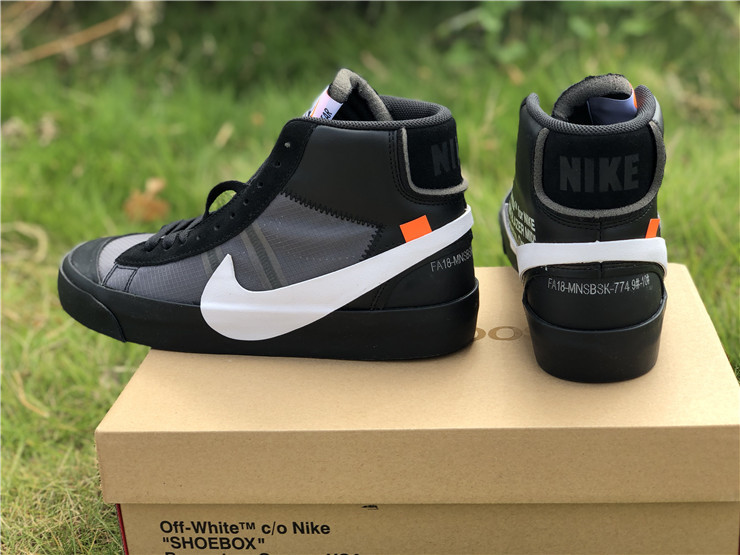Nike Blazer Grim Reaper: (48, 58, 489, 367), (497, 51, 696, 392)
